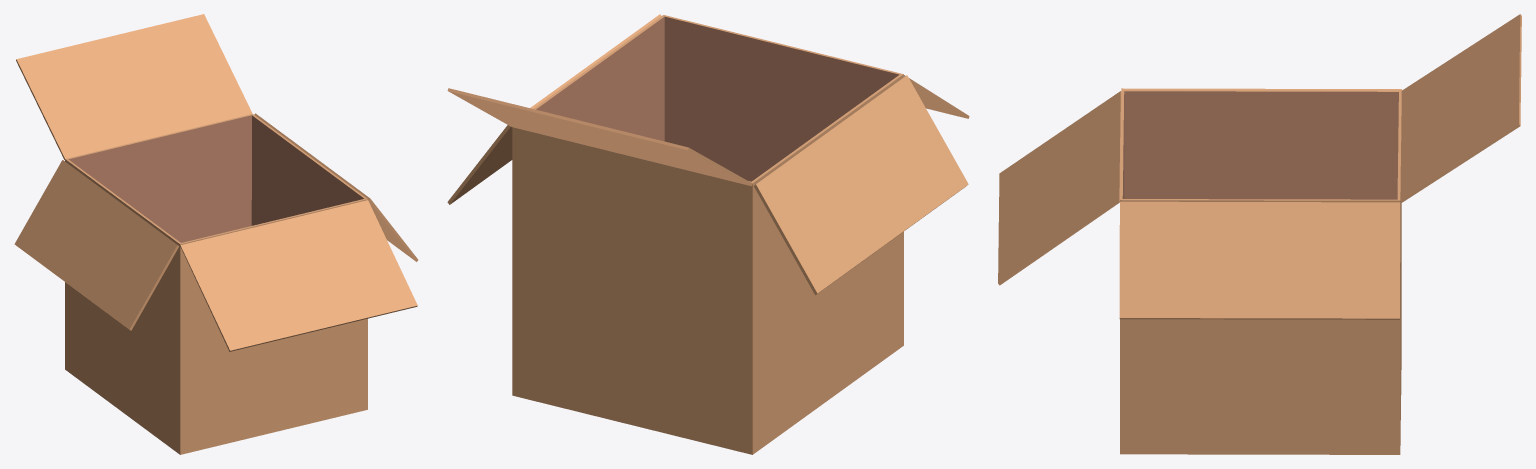
File: SM_Boxes_02.fbx
The picture shows the model from 3 angles, left to right: view 1: azimuth 30°, elevation 25°; view 2: azimuth 150°, elevation 25°; view 3: azimuth 270°, elevation 25°; orthographic projection. The views are drawn at different scales.
Parts seen in each view (by area): view 1: SM_Boxes_02; view 2: SM_Boxes_02; view 3: SM_Boxes_02.
Boxes of the visible parts, x1,y1,x2,y2 form: SM_Boxes_02: (14, 14, 418, 454); SM_Boxes_02: (447, 14, 969, 454); SM_Boxes_02: (998, 14, 1521, 454).
Size of the model in its own units: 22.52 by 20.42 by 29.28.
